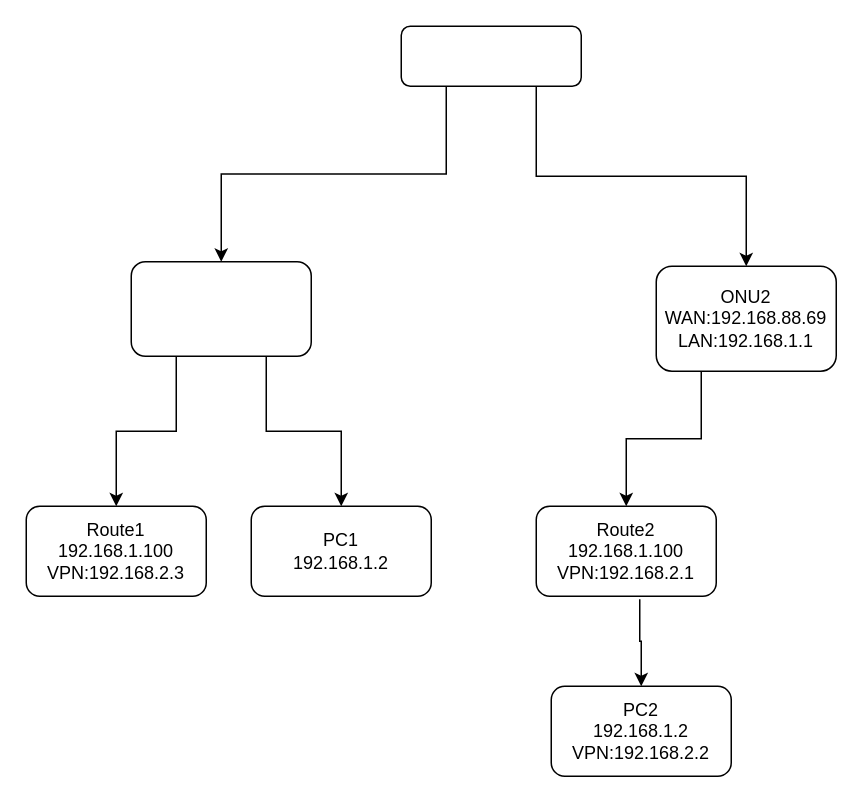
This 863x803 diagram has some shape labels left out. Each missing label, with the centre of its shape:
OLT: (x=490, y=55)
ONU1 WAN:192.168.88.68 LAN:192.168.1.1: (x=220, y=308)
